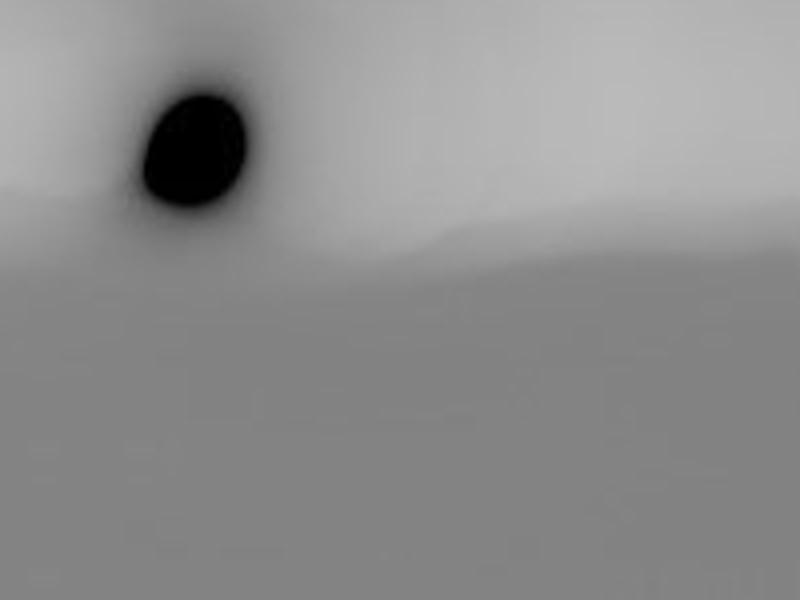defect: (142, 93, 249, 214)
